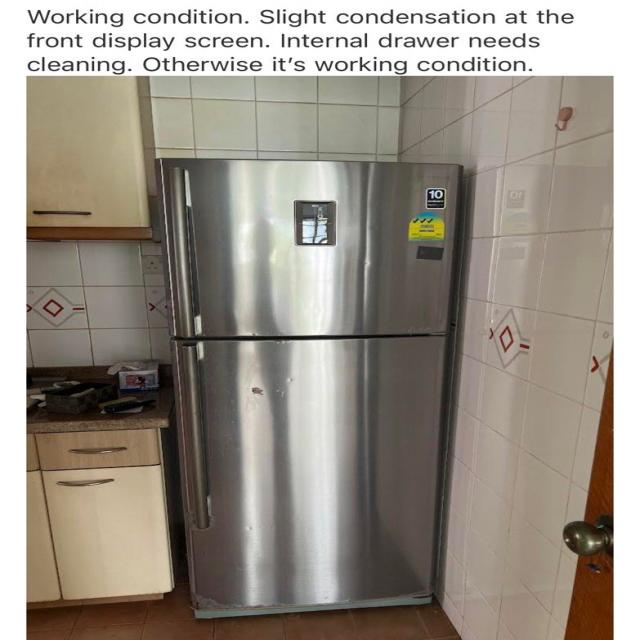refrigerator: (154, 154, 466, 622)
